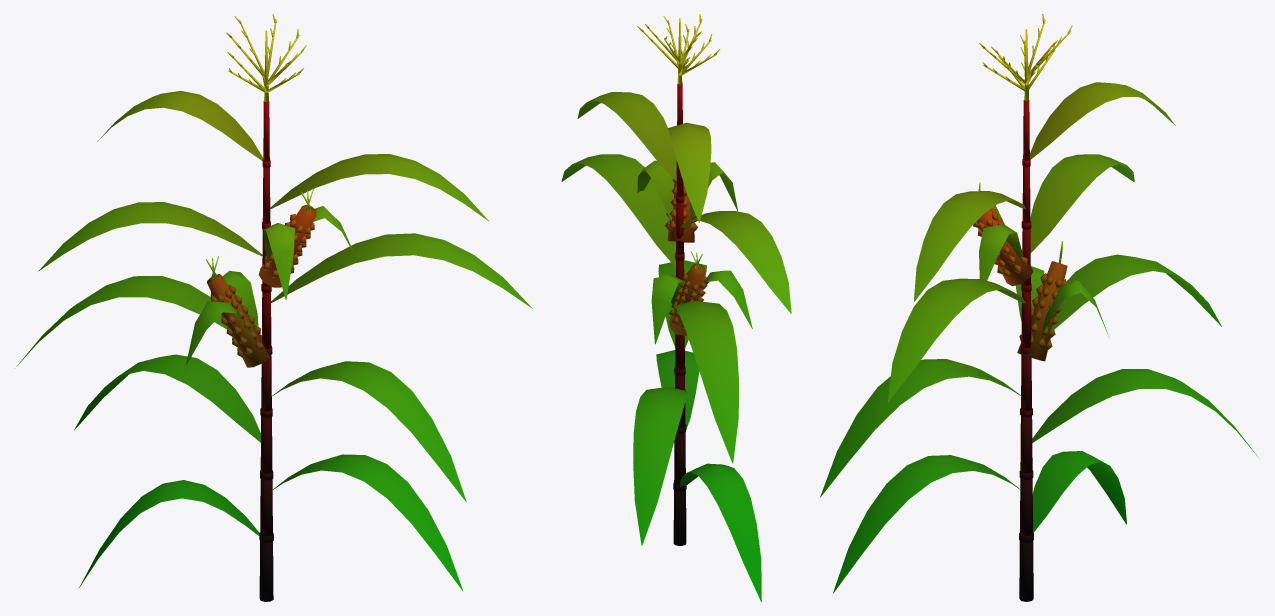
Rendered from SM_CornB.fbx.
The picture shows the model from 3 angles, left to right: view 1: azimuth 30°, elevation 25°; view 2: azimuth 150°, elevation 25°; view 3: azimuth 270°, elevation 25°; orthographic projection. The views are drawn at different scales.
Parts seen in each view (by area): view 1: SM_CornB; view 2: SM_CornB; view 3: SM_CornB.
Boxes of the visible parts, x1,y1,x2,y2 form: SM_CornB: (16,14,532,601); SM_CornB: (561,14,791,601); SM_CornB: (820,14,1258,601).
Bounding box in the file's own units: 149 × 153 × 218.
